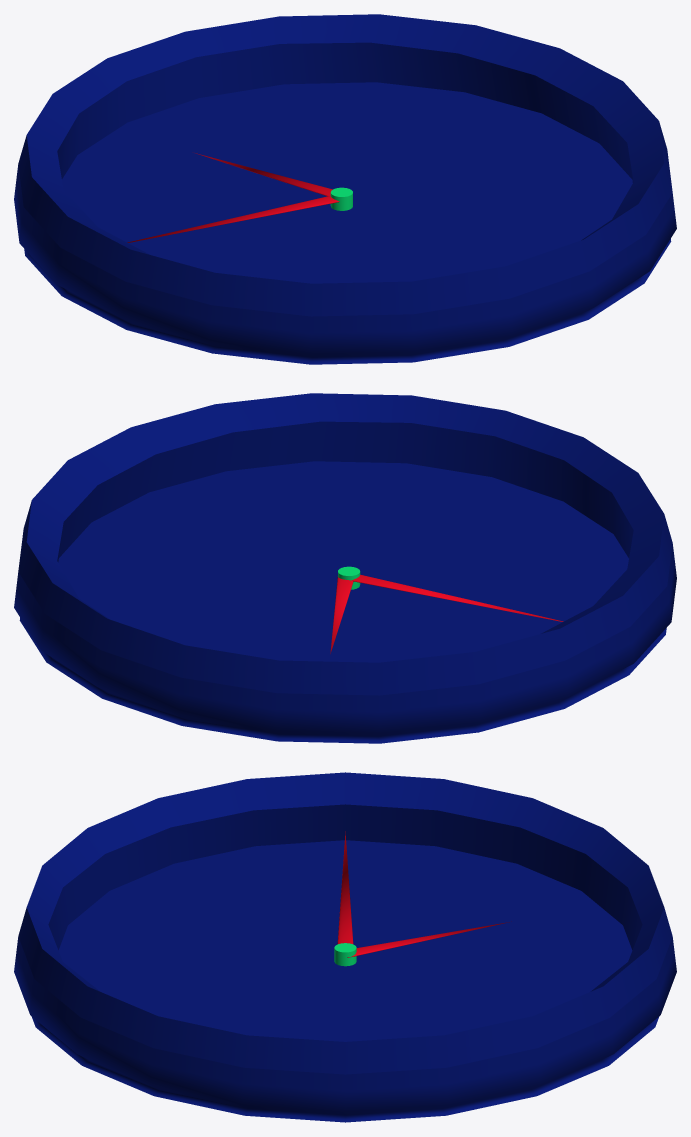
Rendered from ass_clock_v00_UV.fbx.
3 views of the same model, one above another, from view 1: azimuth 30°, elevation 25°; view 2: azimuth 150°, elevation 25°; view 3: azimuth 270°, elevation 25° (orthographic).
Parts seen in each view (by area): view 1: pCylinder1, pCone1, pCone2; view 2: pCylinder1, pCone1, pCone2; view 3: pCylinder1, pCone1, pCone2.
Part boxes in pixels (x1,y1,x2,y2): pCylinder1: (14, 14, 676, 364); pCone1: (127, 195, 339, 242); pCone2: (195, 153, 332, 196); pCylinder1: (14, 393, 676, 743); pCone1: (352, 574, 563, 621); pCone2: (330, 576, 353, 653); pCylinder1: (14, 772, 676, 1122); pCone1: (337, 831, 353, 943); pCone2: (347, 921, 511, 957).
Size of the model in its own units: 12.92 by 1.67 by 12.92.
